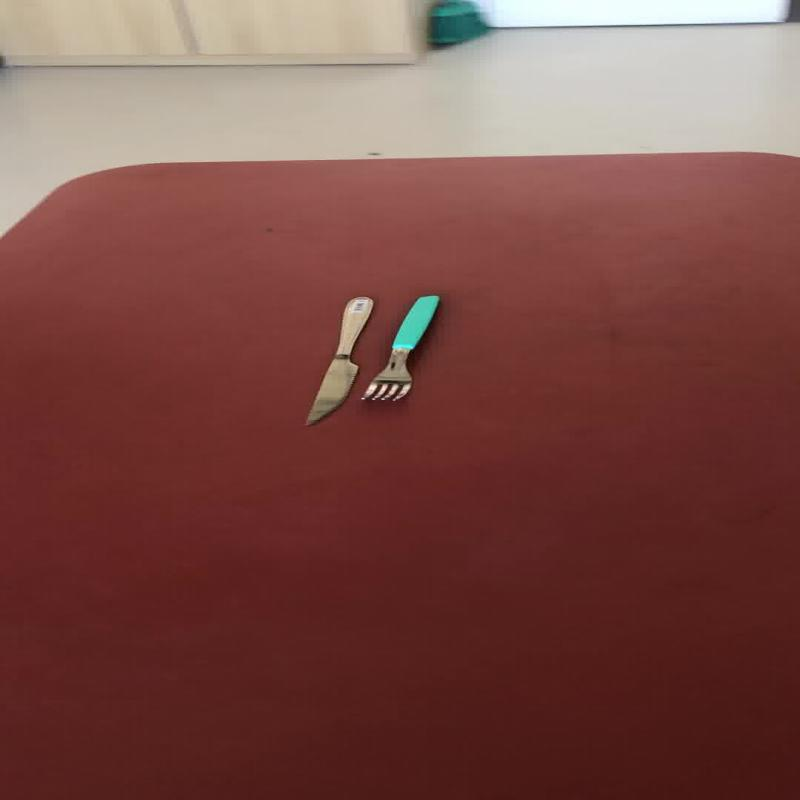fork: (302, 296, 372, 426), (360, 294, 440, 402)
knife: (302, 295, 372, 426), (360, 294, 440, 402)
